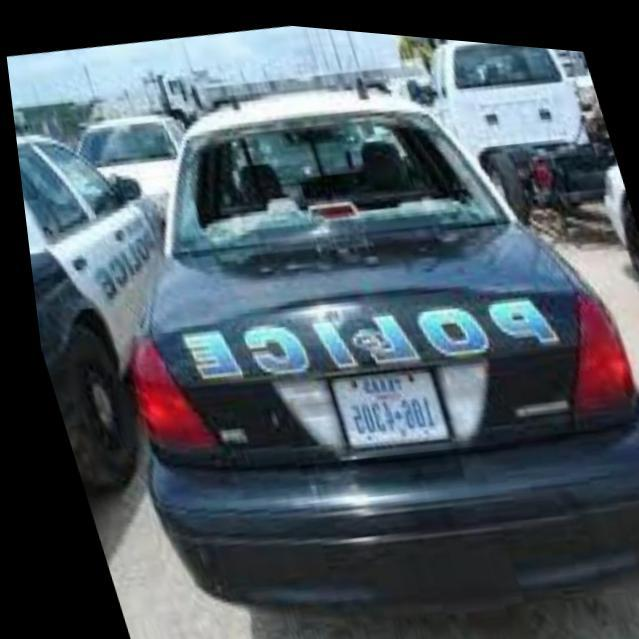glass shatter: (164, 103, 493, 248)
